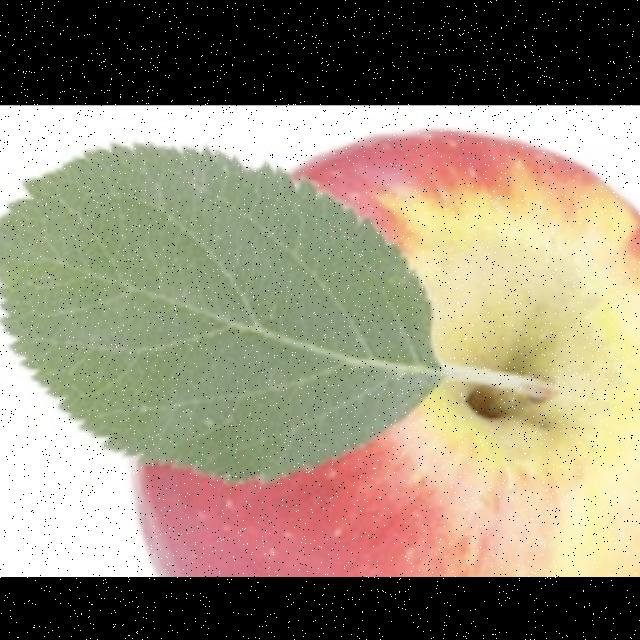Apel Segar: (131, 131, 640, 577)
